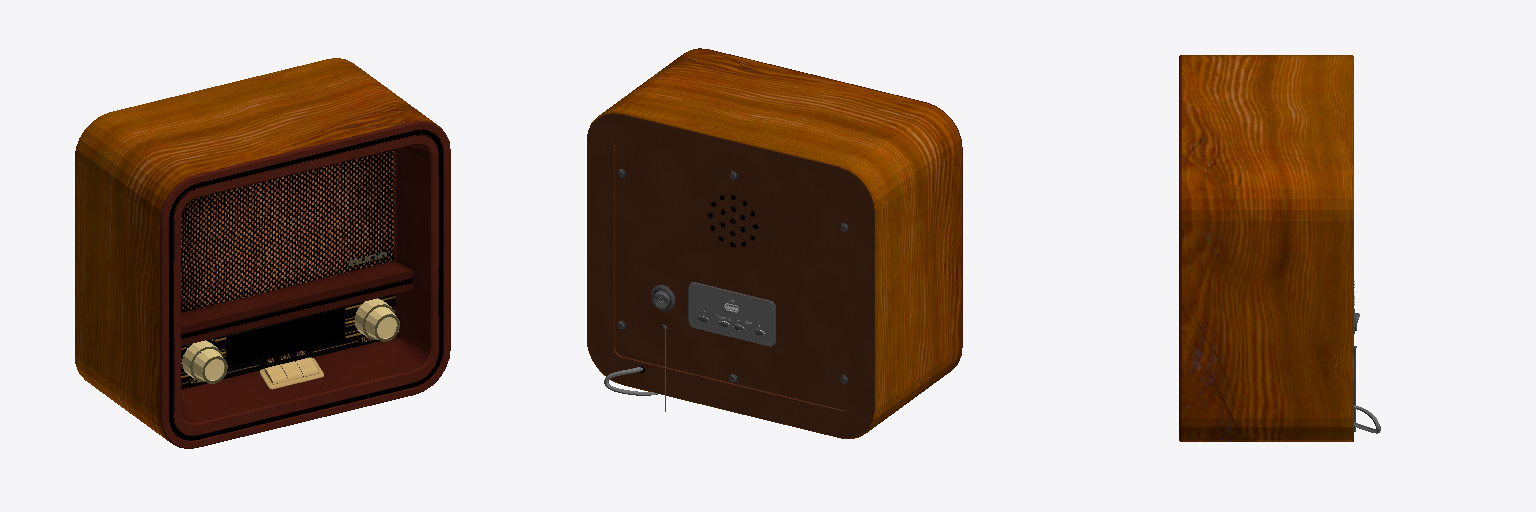
The picture shows the model from 3 angles: view 1: azimuth 30°, elevation 25°; view 2: azimuth 150°, elevation 25°; view 3: azimuth 270°, elevation 25°; orthographic projection.
Visible parts, largest first — view 1: RetroRadio_lowpoly_Circle.033; view 2: RetroRadio_lowpoly_Circle.033; view 3: RetroRadio_lowpoly_Circle.033.
Boxes of the visible parts, box(x1,y1,x2,y2) form: RetroRadio_lowpoly_Circle.033: box(75, 58, 450, 448); RetroRadio_lowpoly_Circle.033: box(587, 48, 962, 438); RetroRadio_lowpoly_Circle.033: box(1179, 55, 1380, 441).
Size of the model in its own units: 7.29 by 6.91 by 4.4.
1 materials, 1 textured.